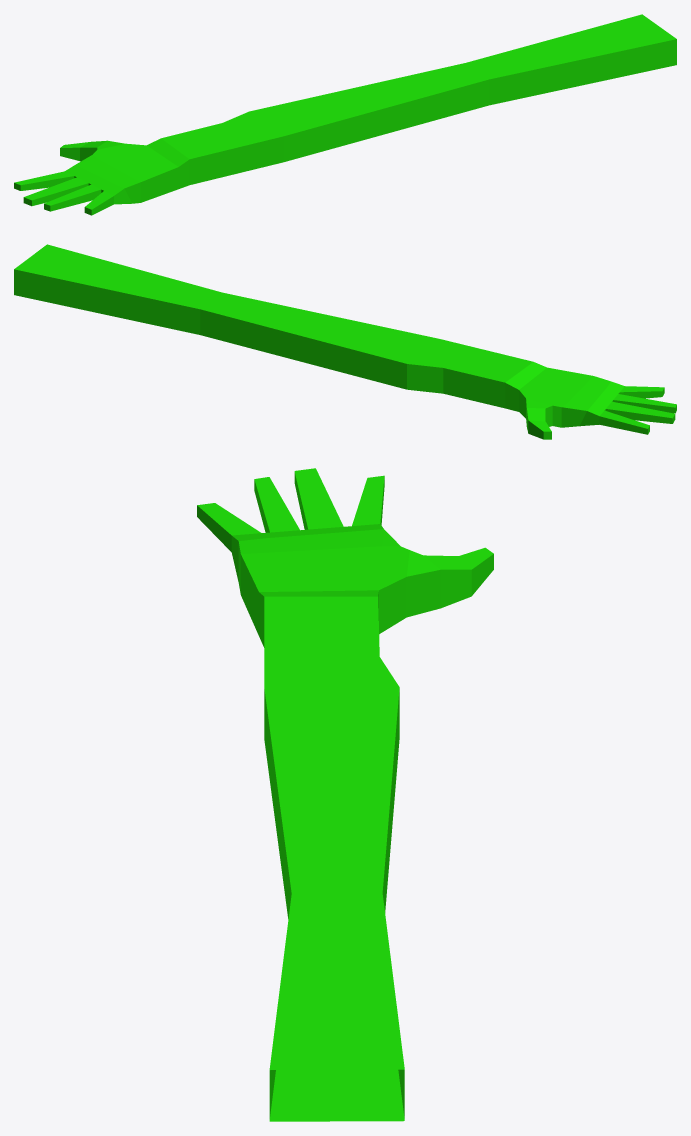
Rendered from hand.glb.
The picture shows the model from 3 angles, top to bottom: view 1: azimuth 30°, elevation 25°; view 2: azimuth 150°, elevation 25°; view 3: azimuth 270°, elevation 25°; orthographic projection. The views are drawn at different scales.
Visible parts, largest first — view 1: Cube; view 2: Cube; view 3: Cube.
Part boxes in pixels (x1,y1,x2,y2): Cube: (14,14,676,215); Cube: (14,244,676,439); Cube: (197,468,493,1121).
Size of the model in its own units: 12.93 by 0.5004 by 2.61.
